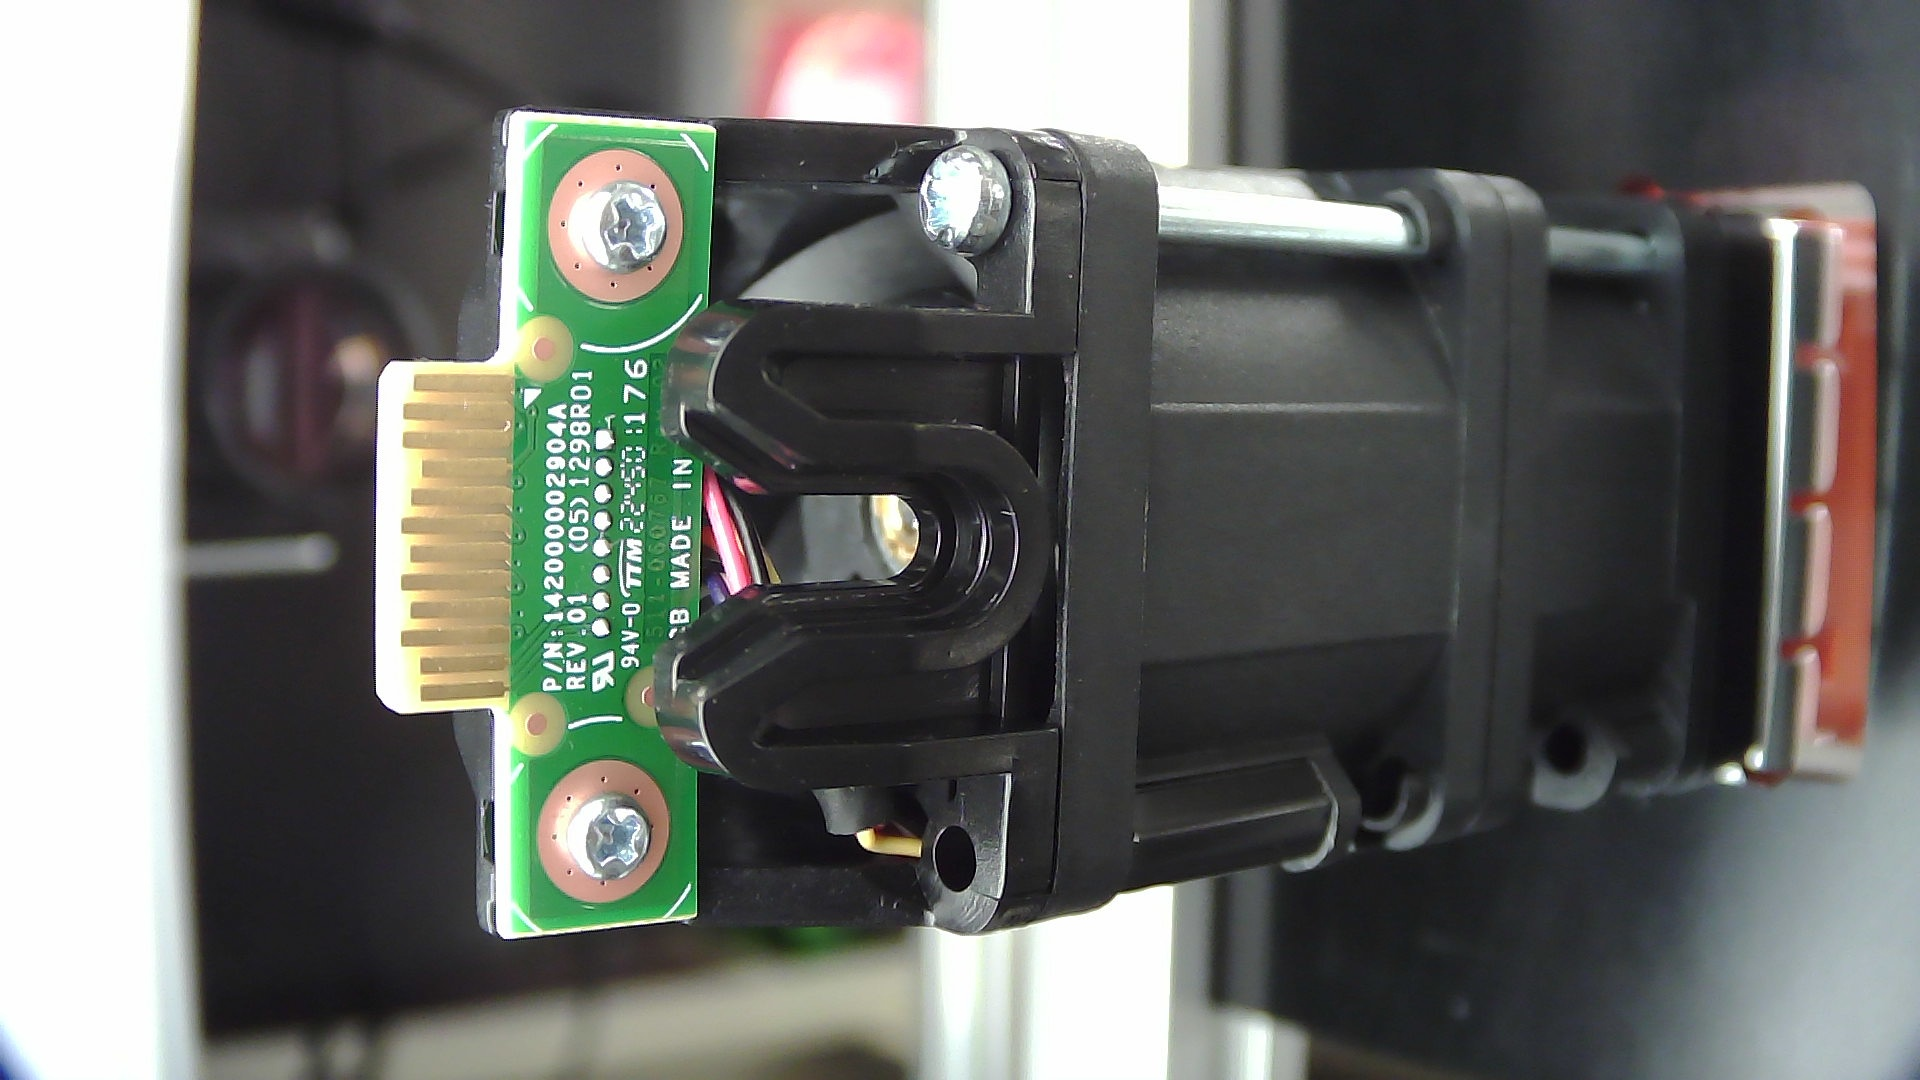7_0: (324, 36, 1903, 973)
